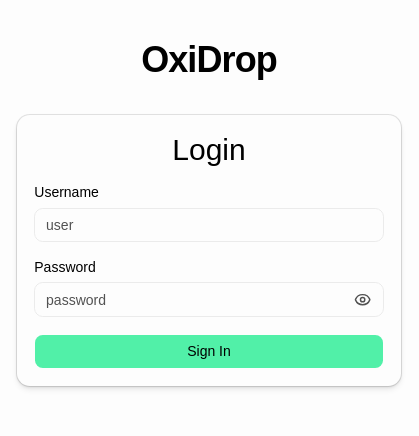
Test case: LoginForm › reports a network error and re-enables the form
The image size is (419, 436).
Type "admin" into the field labelled "Username" at (209, 225), box [34,208,384,242]
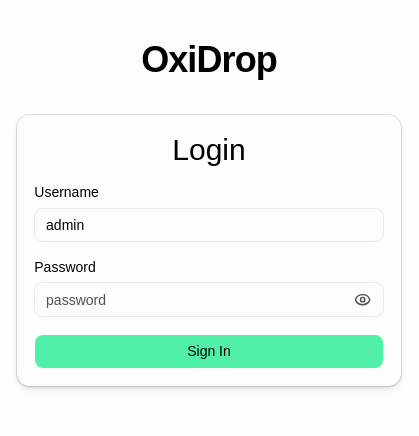
Type "correct-password" into the password field labelled "Password" at (209, 300), box [34,282,384,317]
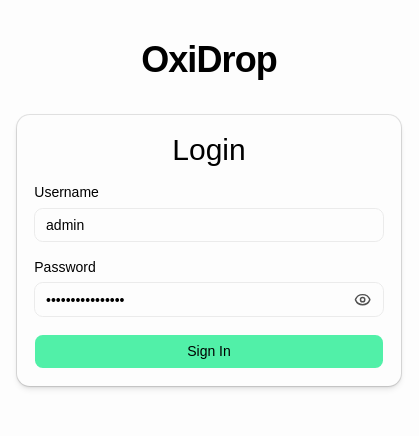
Click the button "Sign In" at (209, 351), box [34,334,384,369]
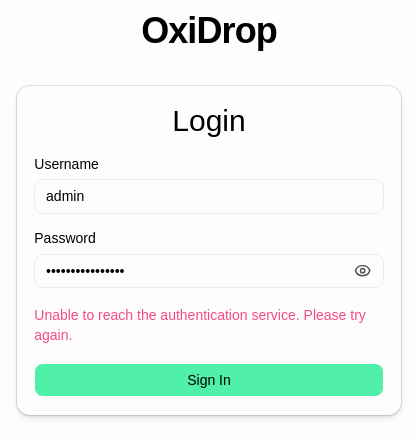
Check: the button "Sign In" is enabled, box [34,363,384,397]
Check: the message reads "Unable to reach the authentication service. Please try again.", box [34,307,366,343]
